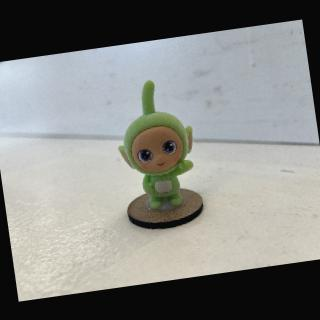teletubby: (118, 80, 193, 210)
